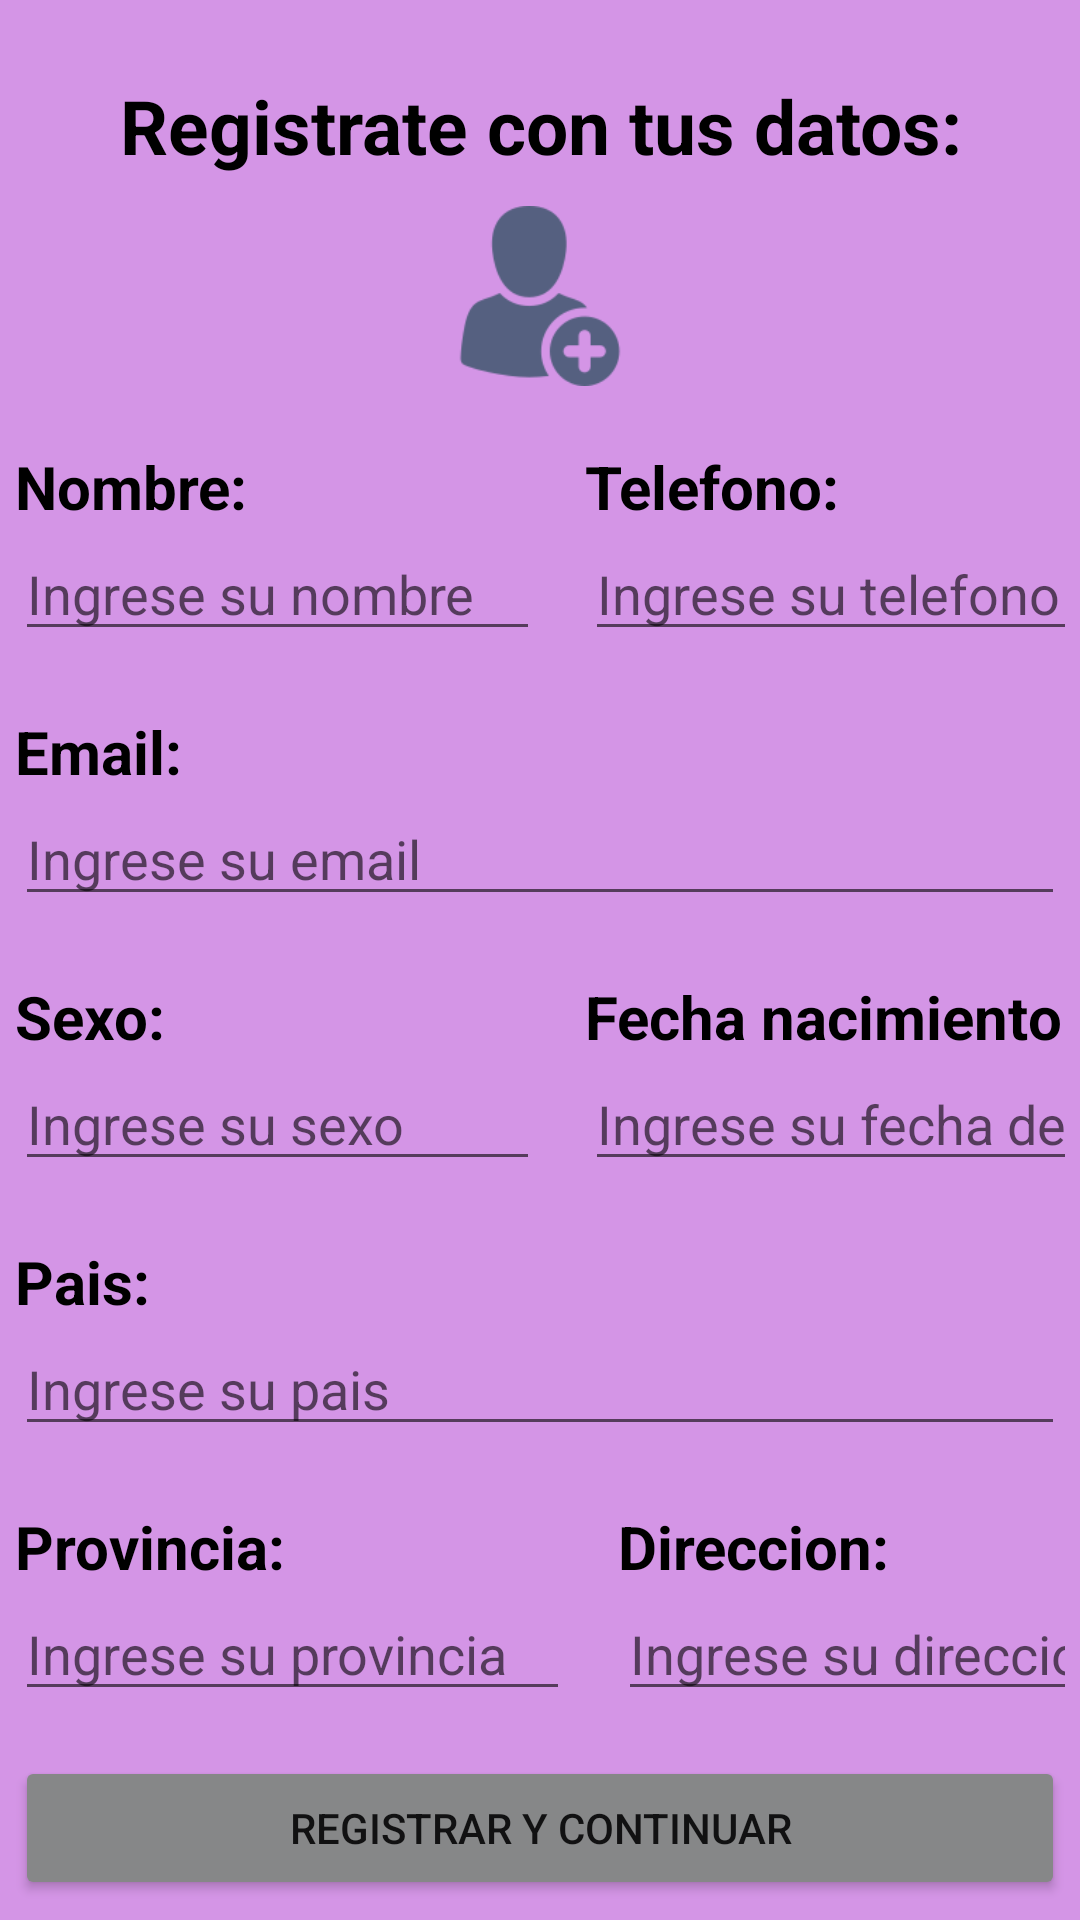

Point at icon controls on the screen. Image size 1080px×1920px, points as [x,y].
nuevousuario: [540,296]
